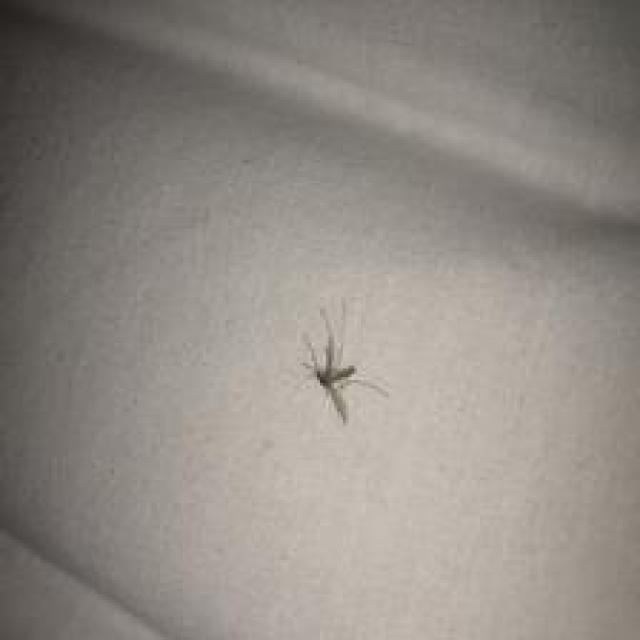Culex: (297, 303, 389, 426)
